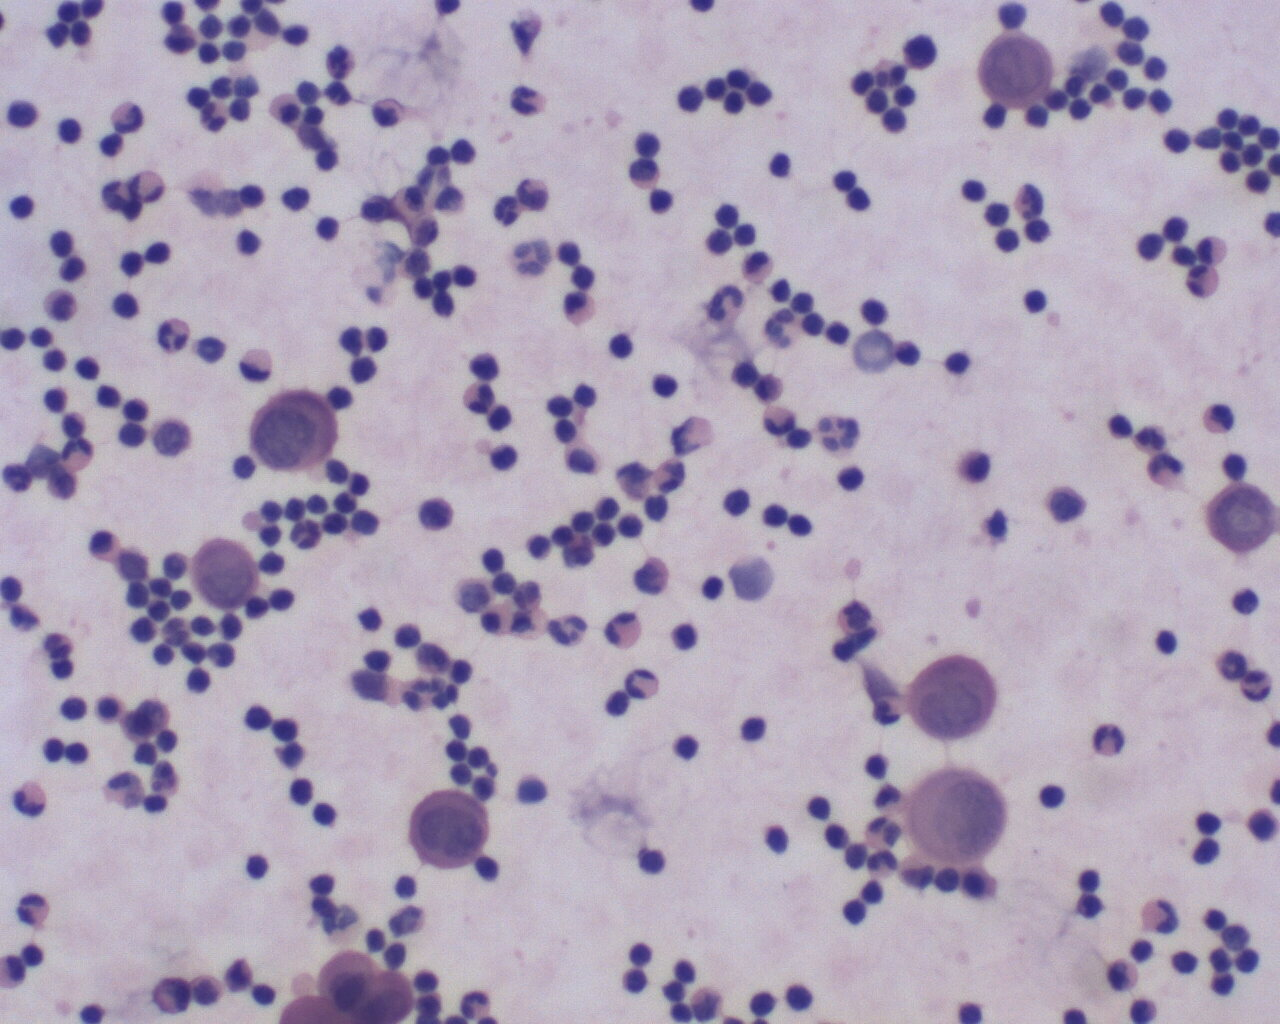ab: (909, 652, 1001, 743), (250, 389, 345, 476), (406, 786, 490, 872), (975, 31, 1055, 106), (1207, 480, 1277, 560), (189, 538, 261, 614)
lymph: (234, 700, 278, 740), (1034, 777, 1073, 817), (109, 287, 152, 322), (735, 708, 770, 744), (956, 174, 994, 208), (282, 777, 320, 811), (802, 790, 836, 827), (630, 125, 669, 156), (1021, 284, 1050, 315), (606, 332, 636, 360)
neutro: (598, 608, 649, 651), (9, 776, 53, 823), (1139, 897, 1185, 940), (155, 316, 195, 359), (107, 96, 152, 135), (760, 402, 799, 440), (461, 380, 502, 416), (865, 844, 902, 881), (490, 192, 522, 230)
